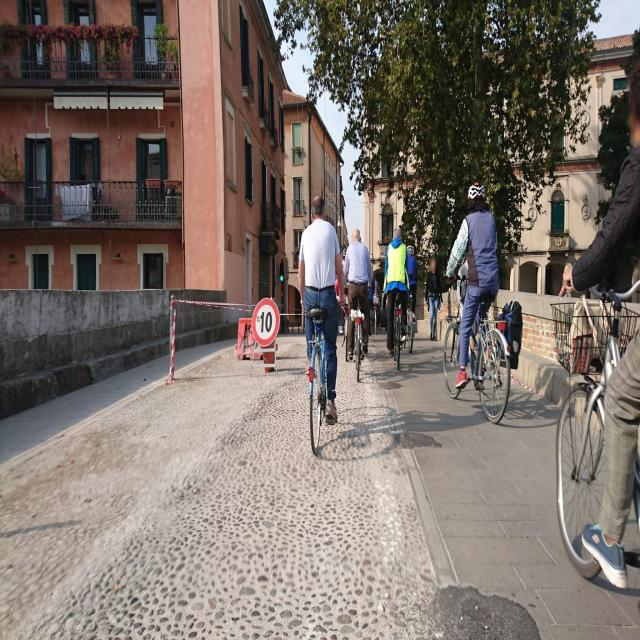bike: (555, 326, 607, 486), (443, 287, 508, 402)
